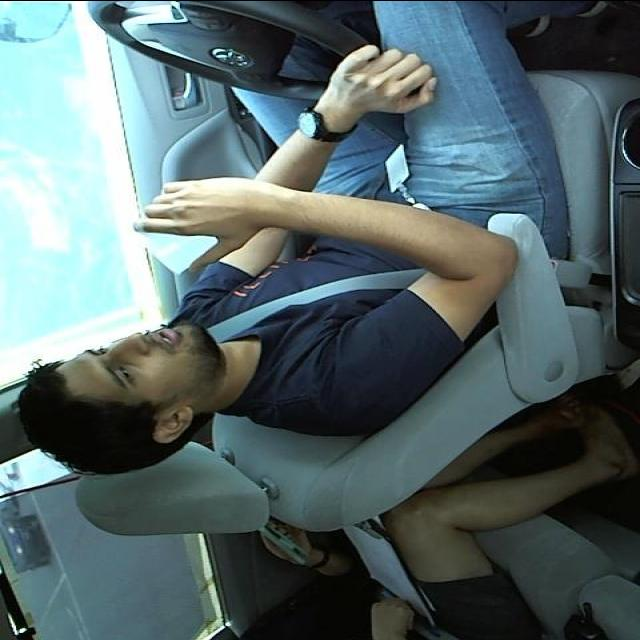drinking: (135, 194, 241, 274)
